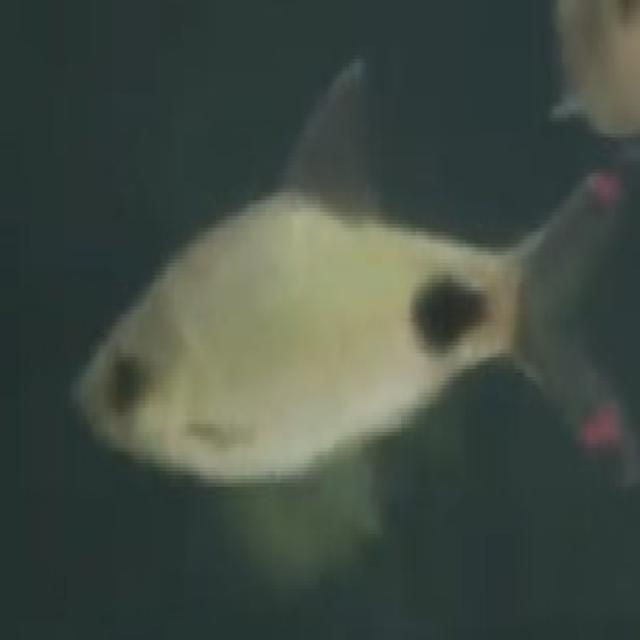Black-Spotted-Barb: (32, 34, 637, 548)
